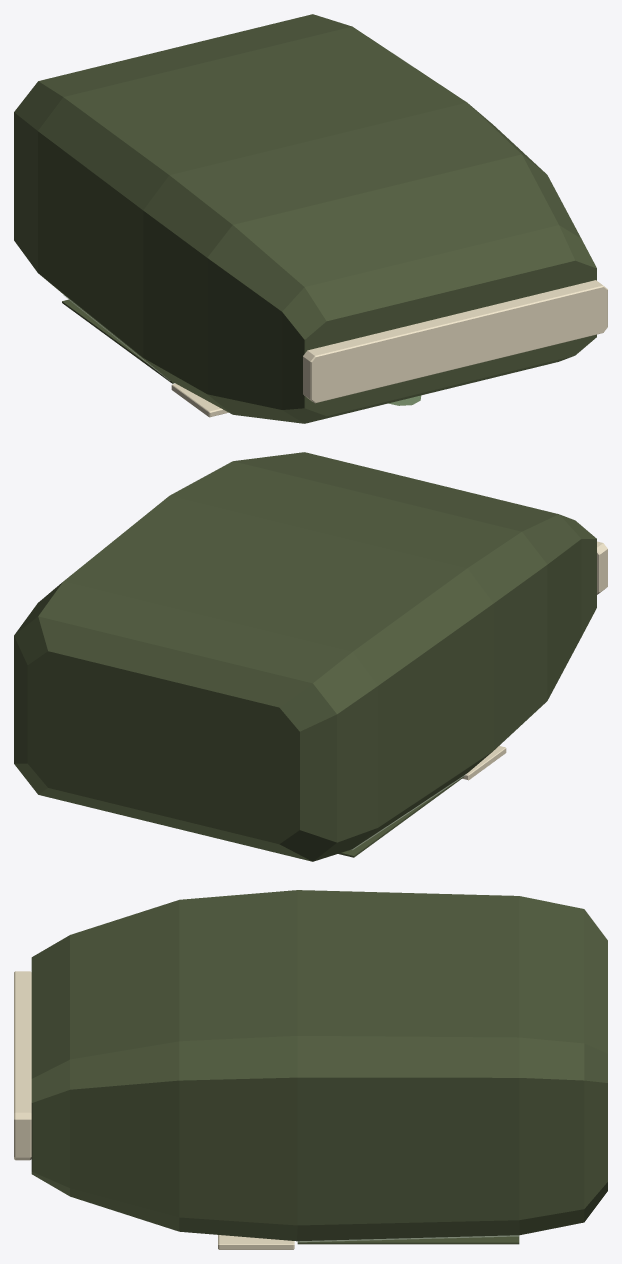
The model's file is licorice.glb.
3 renders of one model, top to bottom at view 1: azimuth 30°, elevation 25°; view 2: azimuth 150°, elevation 25°; view 3: azimuth 270°, elevation 25°, orthographic.
Parts seen in each view (by area): view 1: licorice; view 2: licorice; view 3: licorice.
Part boxes in pixels (left/top/right/bottom): licorice: left=14, top=14, right=607, bottom=423; licorice: left=14, top=452, right=607, bottom=861; licorice: left=14, top=890, right=607, bottom=1249.
Bounding box in the file's own units: 0.1236 × 0.0721 × 0.1809.
